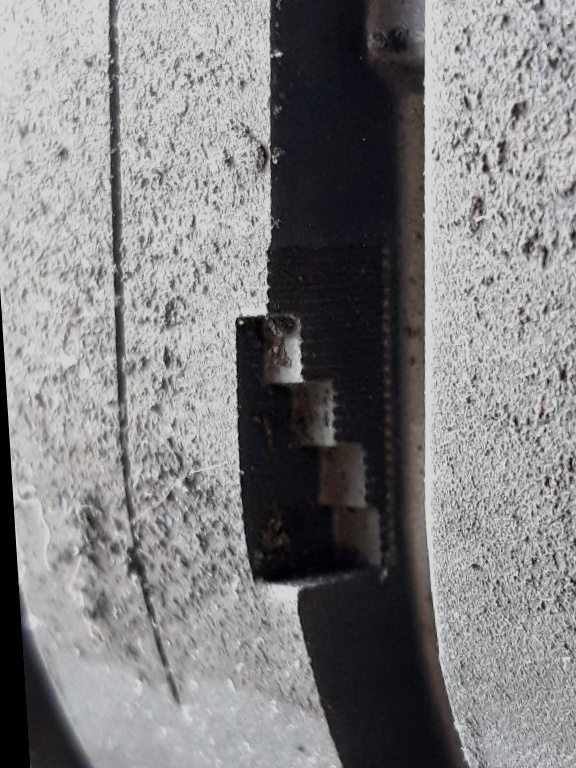temoin:95: (202, 233, 426, 609)
